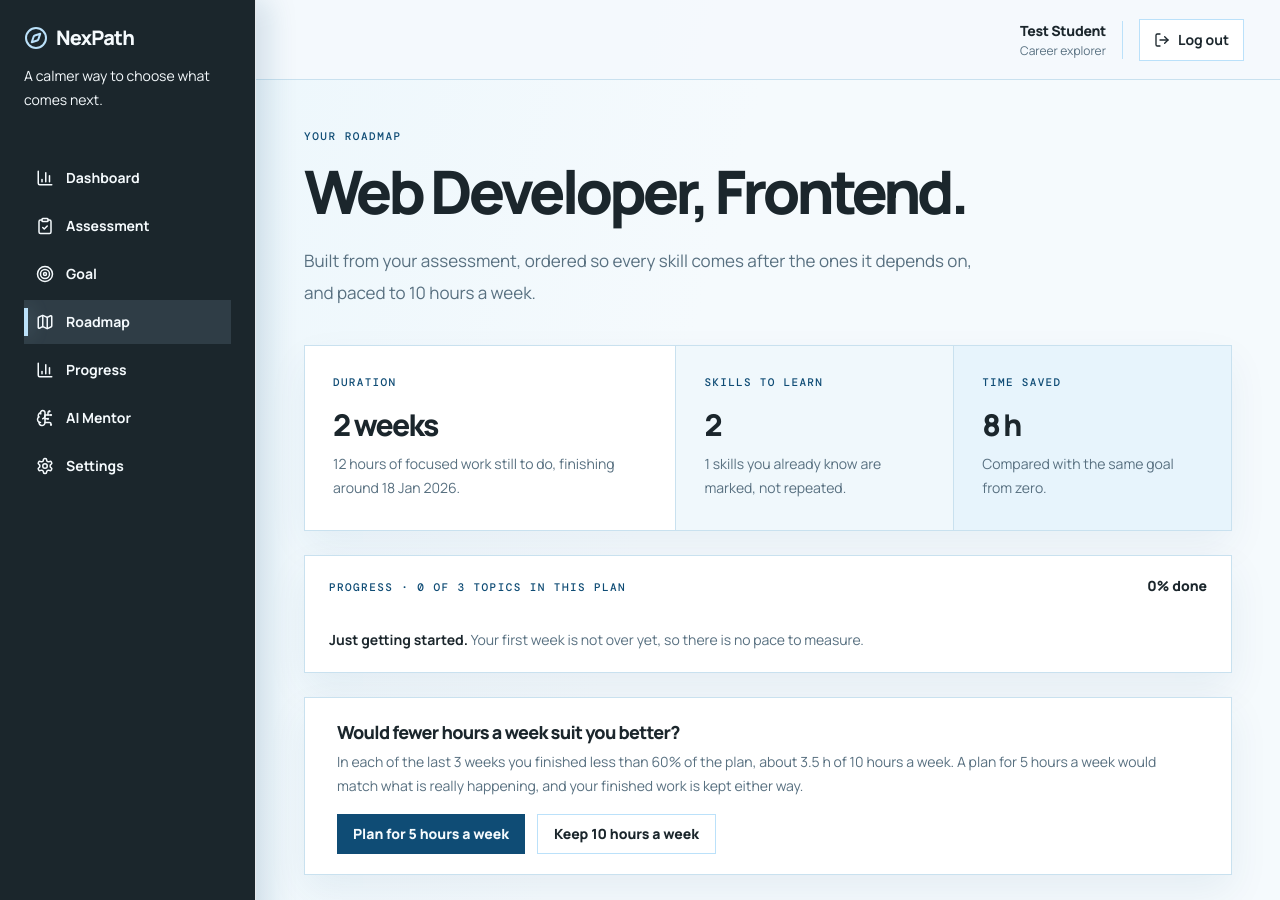
Scenario: roadmap page and replanning › accepting the offer lowers the hours, refreshes the student and reloads the plan
This screenshot has width=1280, height=900.
Click the button "Plan for 5 hours a week": x=431, y=834 [337,814,525,854]
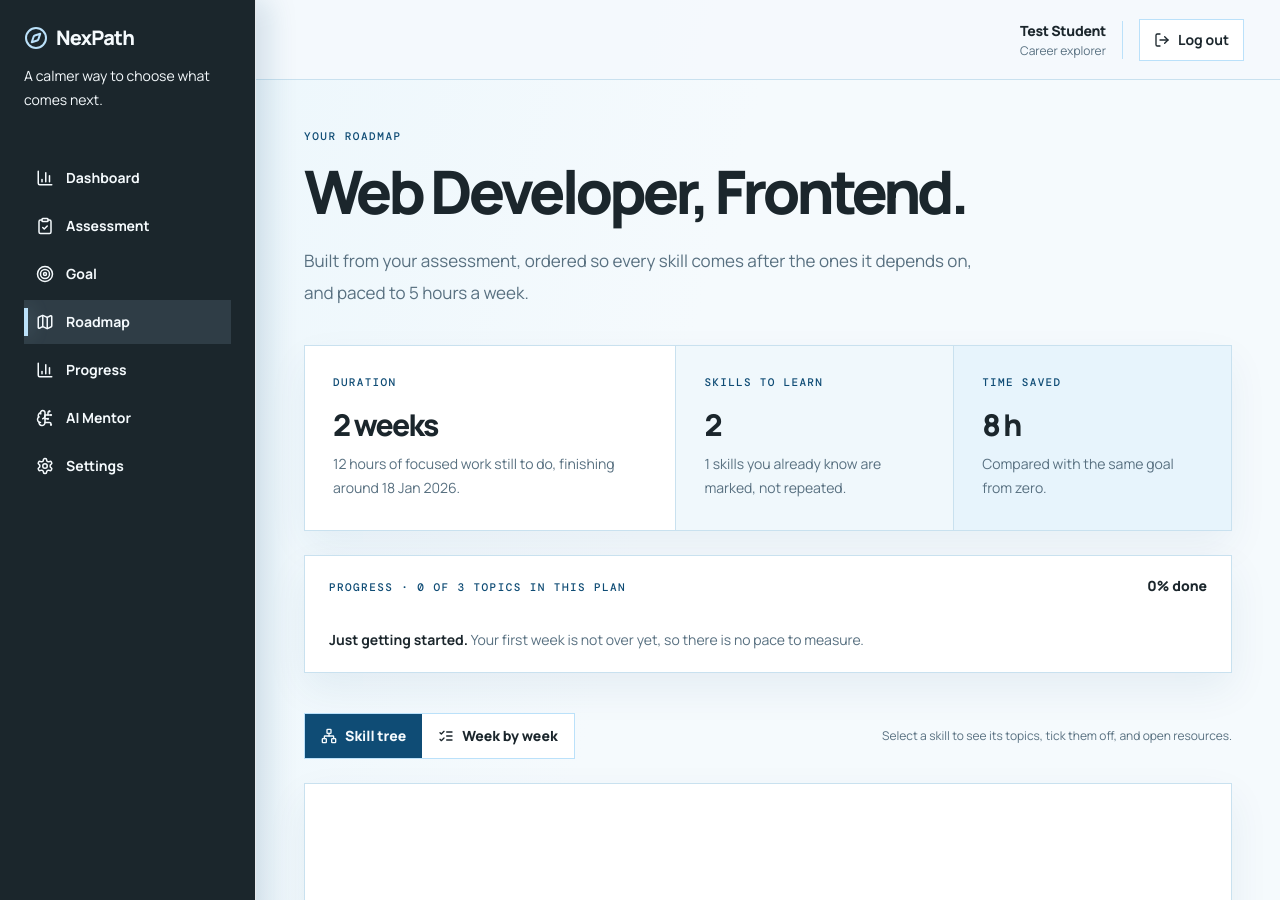
Expected: the heading "Would fewer hours a week suit you better" is gone
